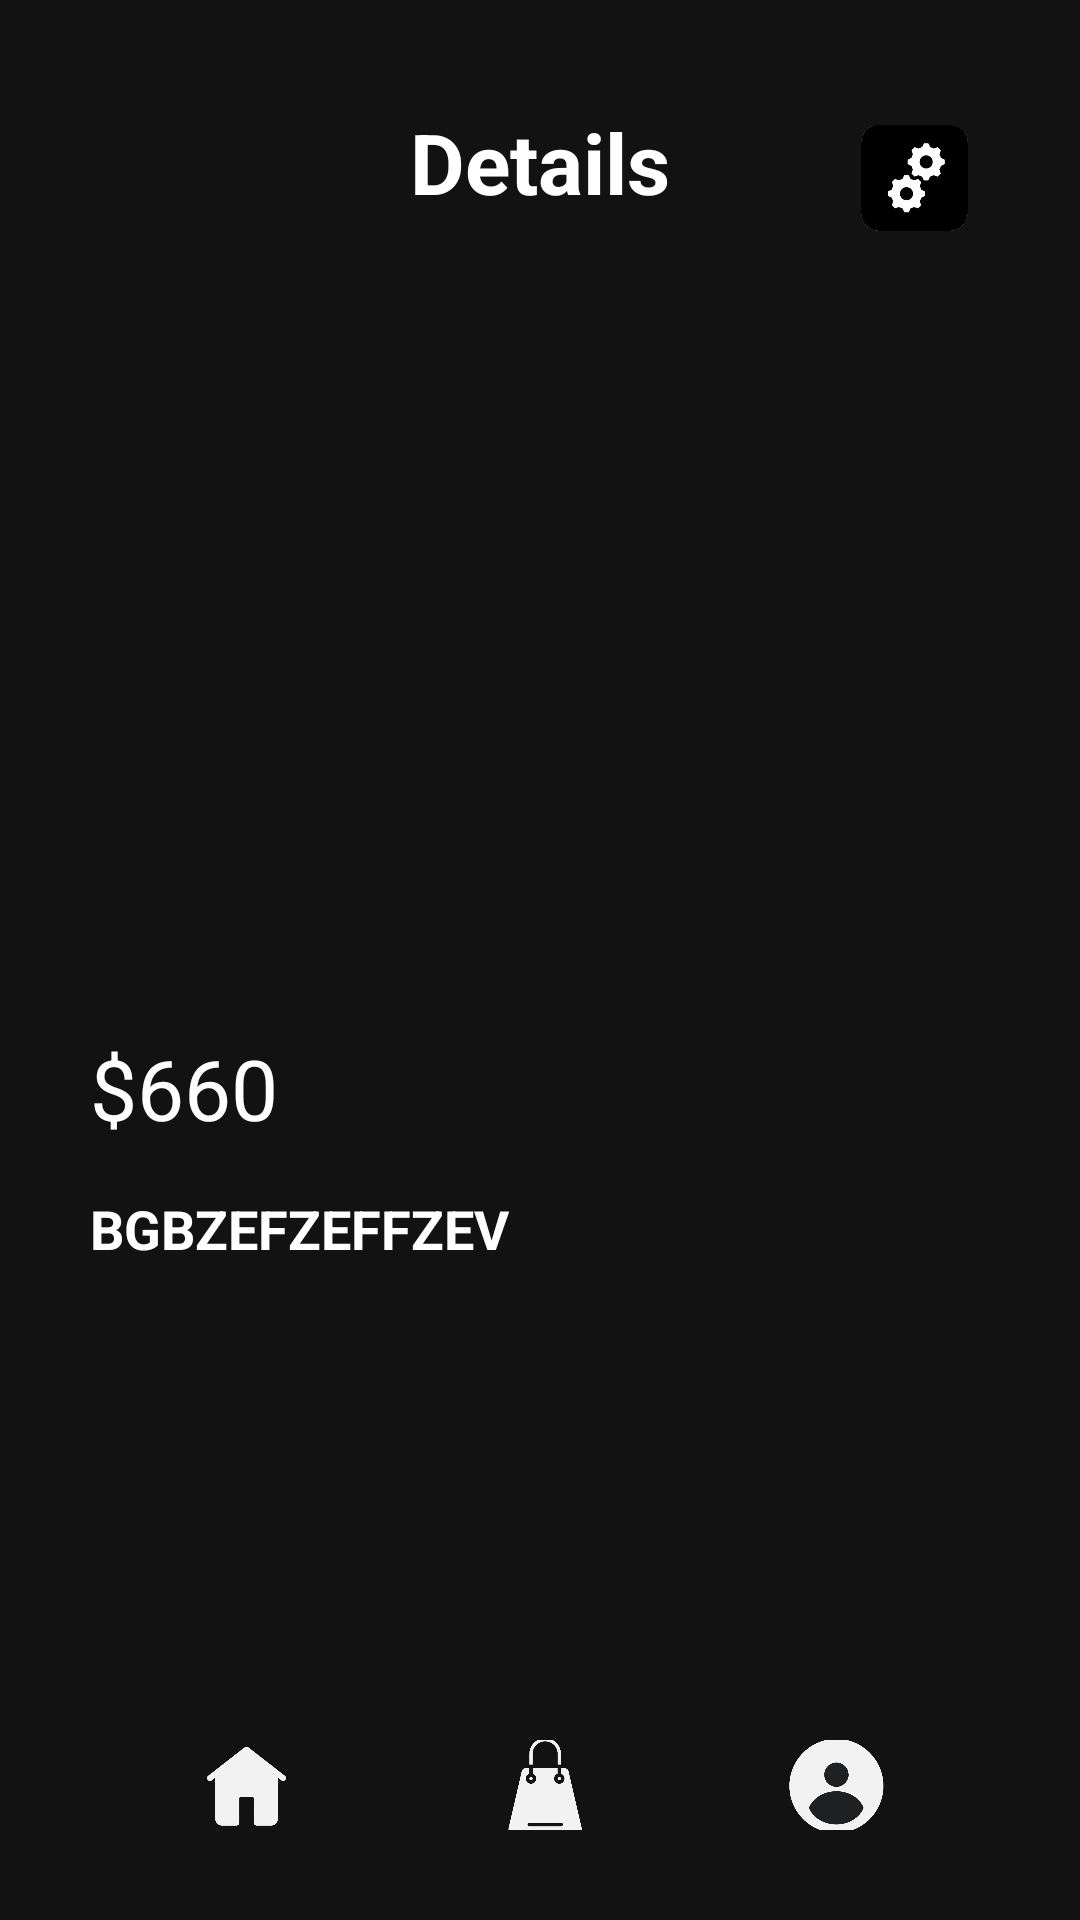

Icon bounding boxes for this 1080 x 1920 phone screenshot, format (x1, y1, x2, y2):
settings: (861, 125, 968, 231)
store: (508, 1740, 582, 1830)
